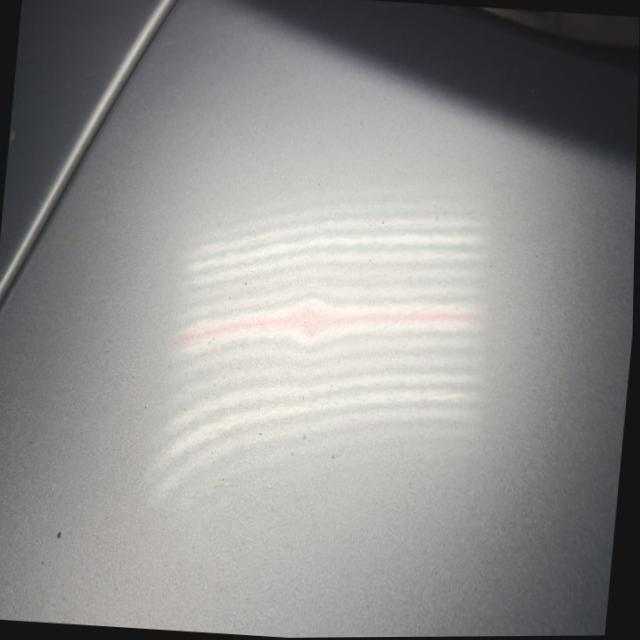PDR-Dent: (288, 288, 332, 357)
